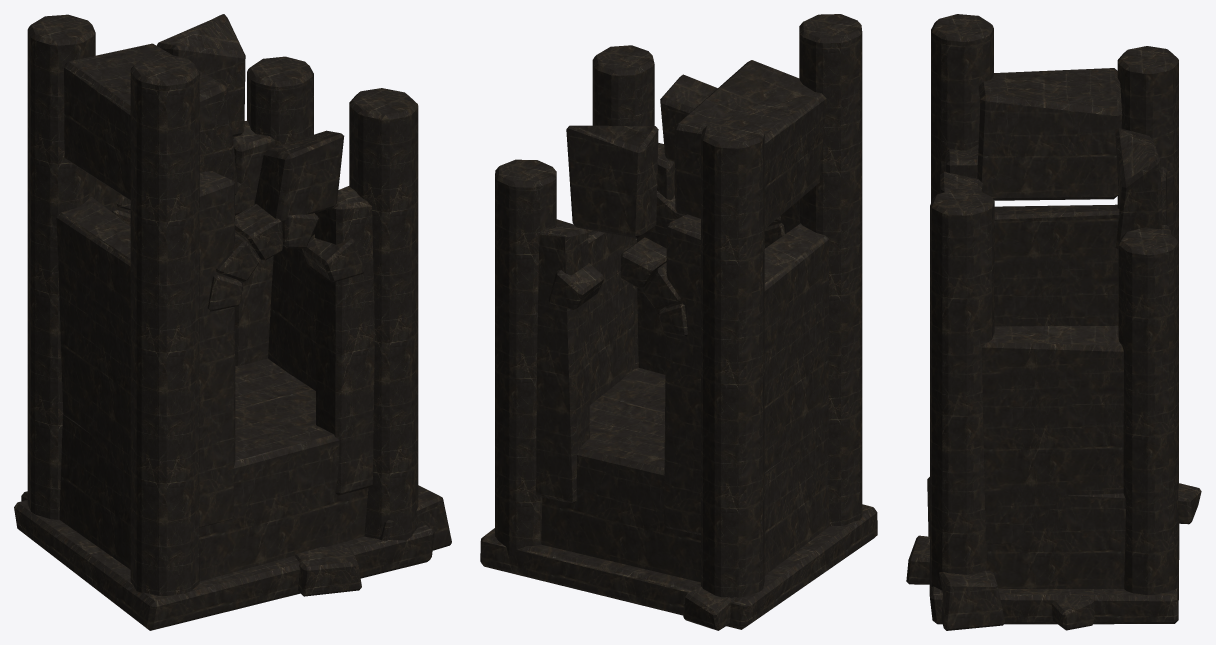
File: ruin_tower_silhouette_a.glb
The picture shows the model from 3 angles, left to right: view 1: azimuth 30°, elevation 25°; view 2: azimuth 150°, elevation 25°; view 3: azimuth 270°, elevation 25°; orthographic projection. The views are drawn at different scales.
Parts seen in each view (by area): view 1: ruin_tower_silhouette_a; view 2: ruin_tower_silhouette_a; view 3: ruin_tower_silhouette_a.
Part boxes in pixels (x1,y1,x2,y2): ruin_tower_silhouette_a: (14,14,451,630); ruin_tower_silhouette_a: (480,14,877,630); ruin_tower_silhouette_a: (906,14,1201,630).
Bounding box in the file's own units: 6 × 10 × 5.46.
Materials: 1 (1 with a texture image).
